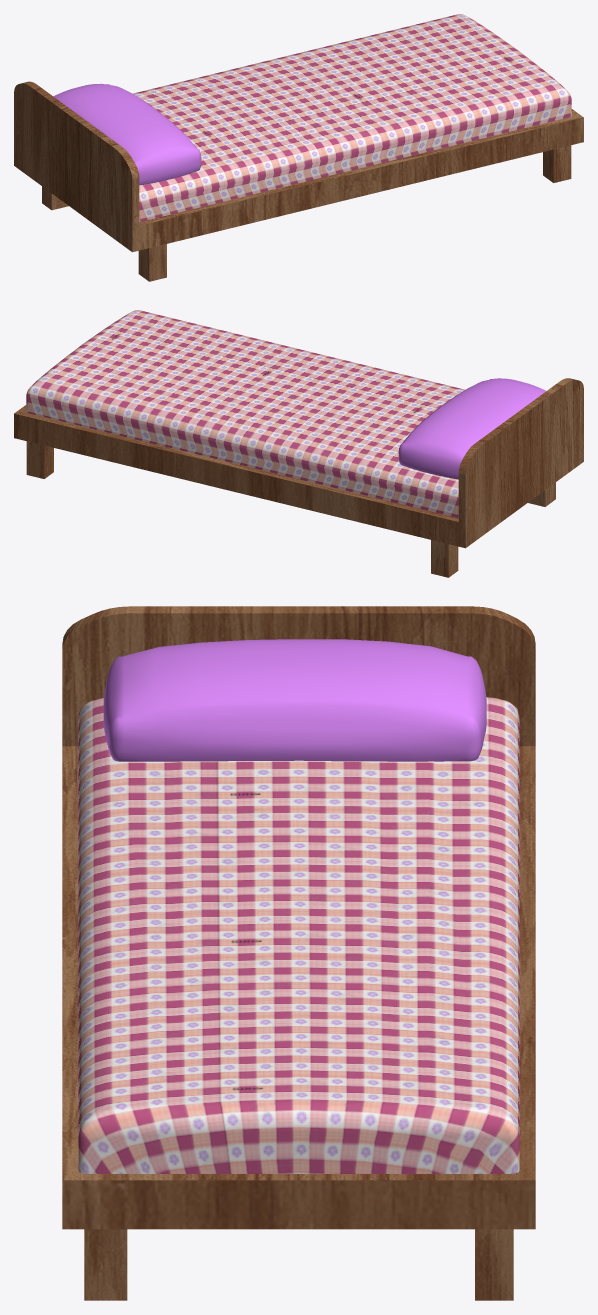
The model's file is Letto.fbx.
The picture shows the model from 3 angles, top to bottom: view 1: azimuth 30°, elevation 25°; view 2: azimuth 150°, elevation 25°; view 3: azimuth 270°, elevation 25°; orthographic projection. The views are drawn at different scales.
Visible parts, largest first — view 1: pCube4, pCube1, pCube3; view 2: pCube4, pCube1, pCube3; view 3: pCube4, pCube1, pCube3.
Part boxes in pixels (x1,y1,x2,y2): pCube4: (133, 14, 571, 221); pCube1: (14, 81, 583, 281); pCube3: (53, 83, 201, 185); pCube4: (26, 310, 465, 517); pCube1: (14, 378, 583, 577); pCube3: (398, 378, 545, 479); pCube4: (78, 697, 519, 1173); pCube1: (62, 606, 535, 1300); pCube3: (103, 639, 486, 761).
Size of the model in its own units: 4.42 by 1.22 by 2.
